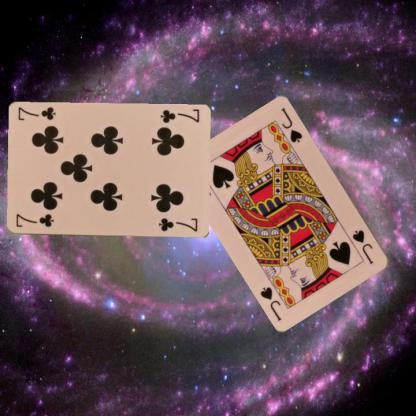7c: (157, 107, 200, 124), (14, 211, 54, 229)
Js: (350, 227, 376, 266)
